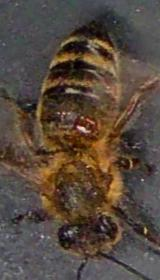varroa_mite: (64, 114, 106, 146)
